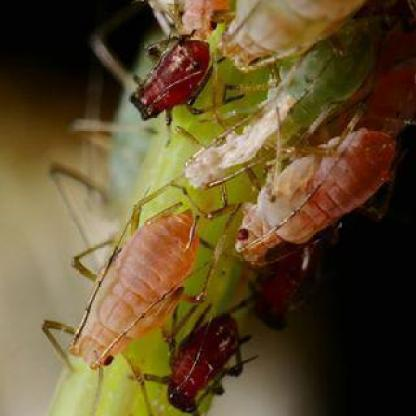aphid: (46, 193, 216, 389), (231, 123, 412, 261), (157, 294, 263, 413), (218, 0, 375, 76), (184, 100, 284, 195), (126, 37, 230, 127), (158, 3, 249, 36)
